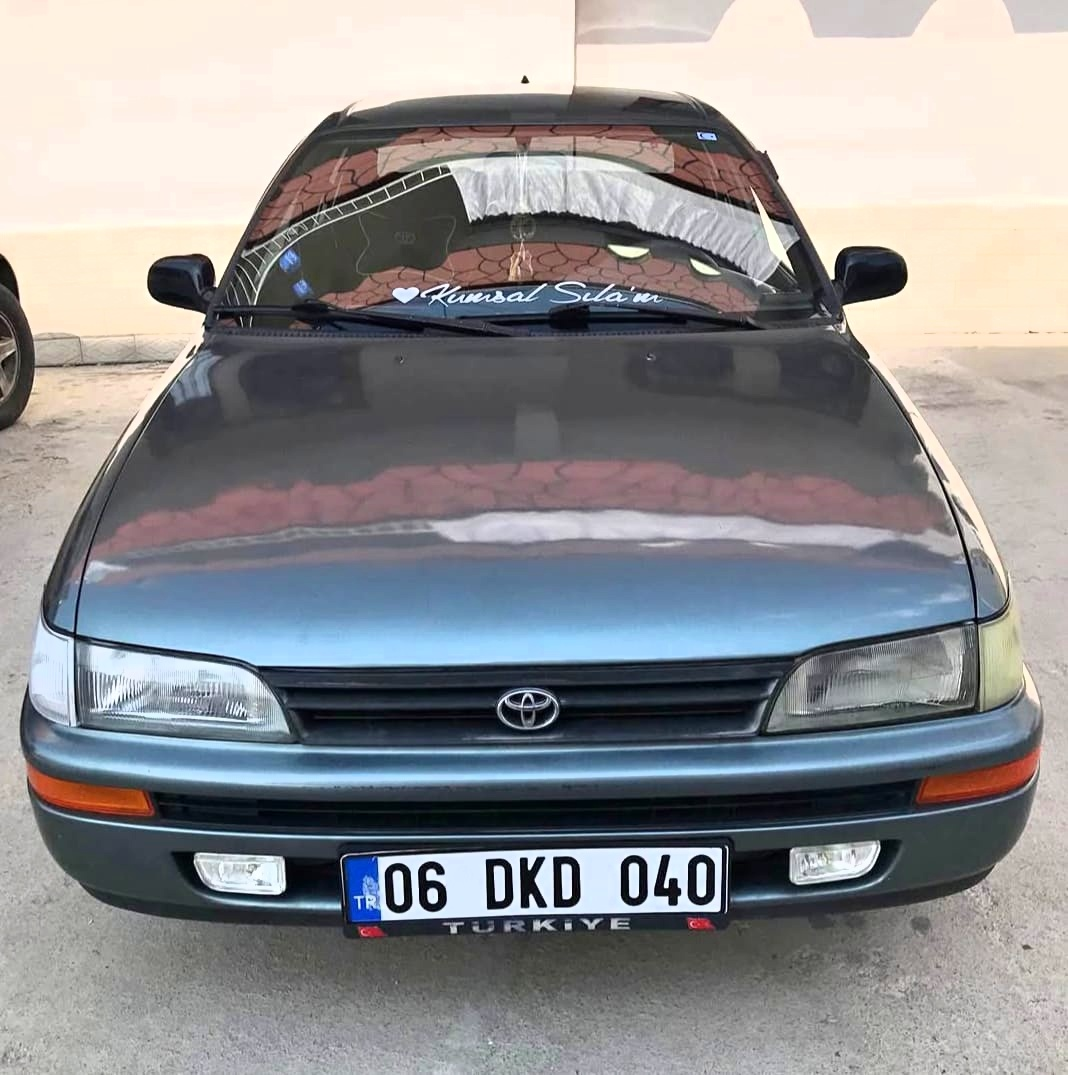plaka: (373, 821, 730, 923)
